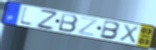B: (99, 20, 122, 41), (57, 13, 79, 34)
L: (18, 5, 35, 29)
X: (118, 23, 140, 44)
Z: (36, 8, 58, 31), (77, 17, 99, 37)
